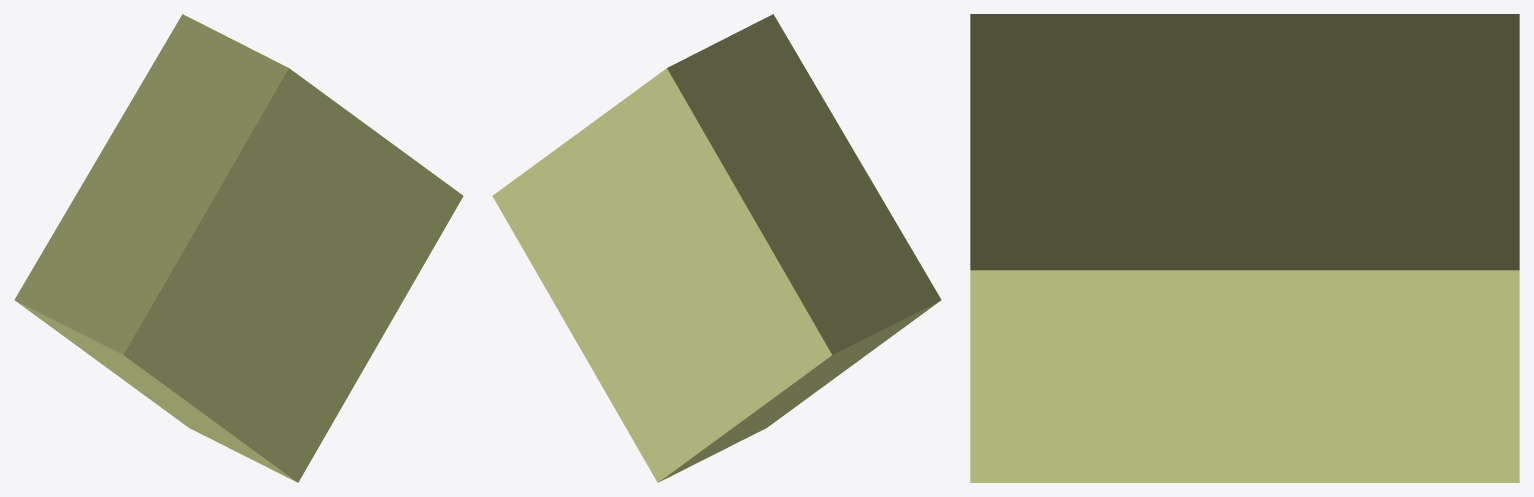
3 renders of one model, left to right at view 1: azimuth 30°, elevation 25°; view 2: azimuth 150°, elevation 25°; view 3: azimuth 270°, elevation 25°, orthographic. The views are drawn at different scales.
Visible parts, largest first — view 1: 0_1_1_3_3_1_0_3_2_1_0; view 2: 0_1_1_3_3_1_0_3_2_1_0; view 3: 0_1_1_3_3_1_0_3_2_1_0.
Part boxes in pixels (x1,y1,x2,y2): 0_1_1_3_3_1_0_3_2_1_0: (14, 14, 463, 482); 0_1_1_3_3_1_0_3_2_1_0: (492, 14, 941, 482); 0_1_1_3_3_1_0_3_2_1_0: (970, 14, 1519, 482).
Size of the model in its own units: 8.17 by 9.29 by 9.
